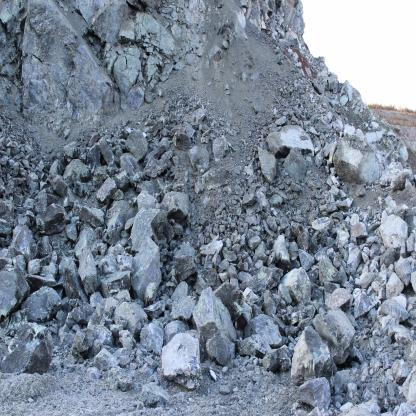stone: (21, 0, 121, 145), (192, 285, 237, 371), (129, 207, 169, 301), (291, 324, 341, 394), (0, 321, 53, 375), (162, 333, 204, 391), (314, 310, 356, 365), (265, 123, 316, 160), (0, 263, 29, 320), (21, 286, 62, 324), (244, 313, 282, 348), (294, 377, 332, 410), (7, 225, 39, 264), (240, 266, 283, 295), (35, 203, 71, 236), (379, 214, 408, 251), (78, 245, 97, 298), (100, 271, 132, 299), (63, 157, 91, 189), (255, 147, 278, 184), (125, 128, 149, 163), (170, 296, 198, 323), (77, 206, 105, 232), (324, 287, 353, 312), (92, 348, 121, 373), (354, 292, 380, 319), (317, 259, 342, 287), (394, 256, 416, 287), (346, 235, 362, 275), (189, 147, 211, 175), (386, 271, 404, 301), (370, 269, 387, 293), (298, 249, 315, 272), (115, 253, 134, 271), (59, 331, 76, 349), (248, 236, 262, 250), (199, 218, 209, 230), (369, 261, 379, 272)
